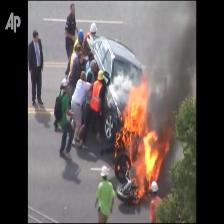fire: (127, 124, 159, 183), (131, 86, 144, 124)
smoke: (153, 63, 182, 123)
